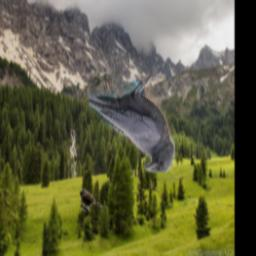Crow: (88, 75, 174, 174)
Sparrow: (79, 189, 101, 213)
